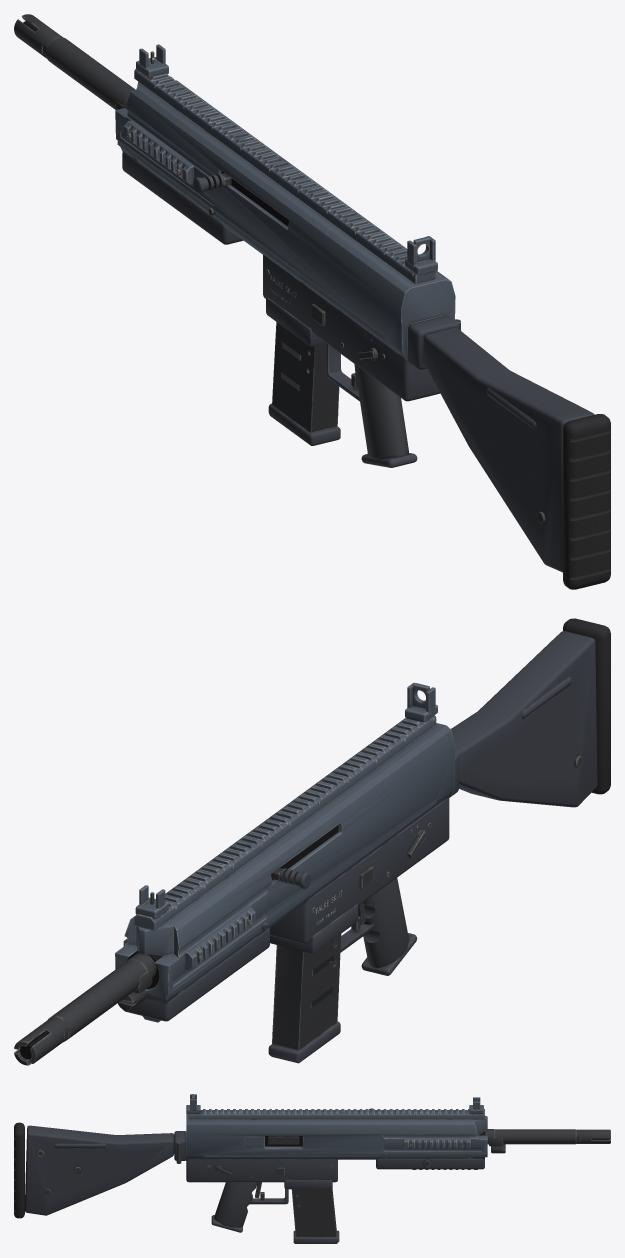
The model's file is falke.glb.
3 views of the same model, one above another, from view 1: azimuth 30°, elevation 25°; view 2: azimuth 150°, elevation 25°; view 3: azimuth 270°, elevation 25° (orthographic). The views are drawn at different scales.
Parts seen in each view (by area): view 1: Body, Magazine, Sights; view 2: Body, Magazine, Sights; view 3: Body, Magazine, Sights.
Boxes of the visible parts, box(x1,y1,x2,y2) form: Body: box(14, 14, 610, 589); Magazine: box(268, 322, 340, 445); Sights: box(136, 44, 437, 275); Body: box(14, 618, 610, 1065); Magazine: box(268, 934, 341, 1063); Sights: box(135, 682, 437, 918); Body: box(14, 1109, 610, 1232); Magazine: box(291, 1188, 339, 1243); Sights: box(186, 1094, 483, 1113).
Bounding box in the file's own units: 0.0932 × 0.265 × 0.991.
Materials: 1 (1 with a texture image).
